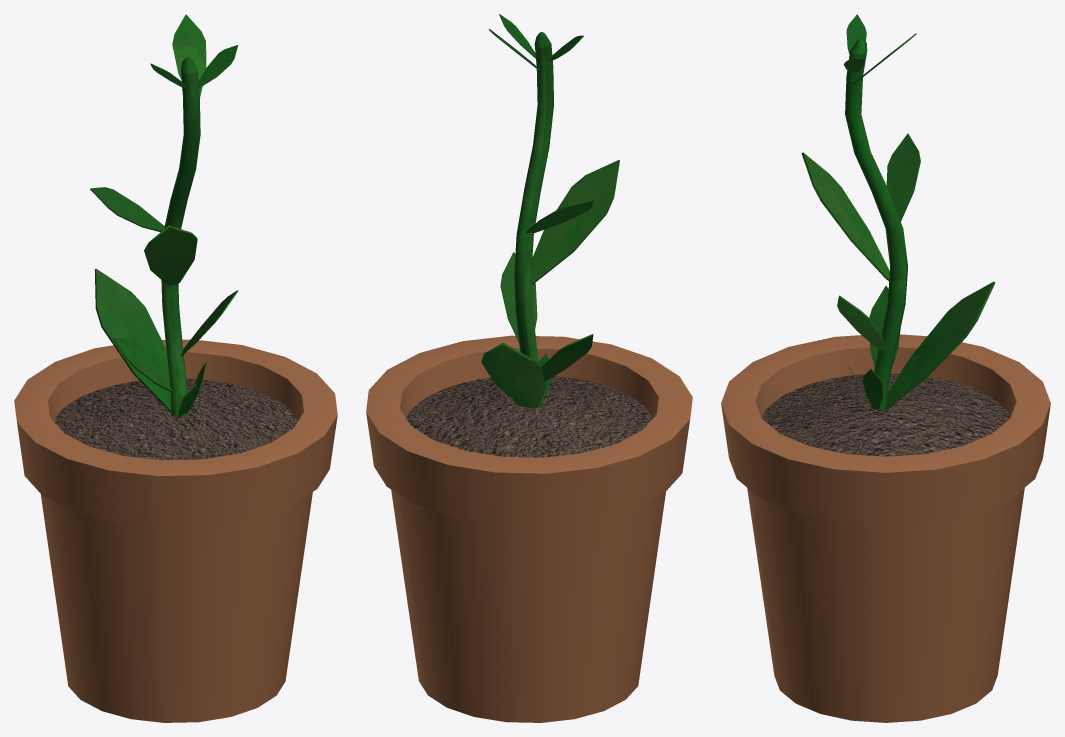
File: Plant 01.fbx
3 views of the same model, side by side, from view 1: azimuth 30°, elevation 25°; view 2: azimuth 150°, elevation 25°; view 3: azimuth 270°, elevation 25° (orthographic).
Parts seen in each view (by area): view 1: Pot1, Plant1, pDisc3; view 2: Pot1, Plant1, pDisc3; view 3: Pot1, Plant1, pDisc3.
Part boxes in pixels (box(x1,y1,x2,y2)): Pot1: box(14, 339, 337, 722); Plant1: box(90, 14, 238, 417); pDisc3: box(54, 378, 298, 460); Pot1: box(366, 335, 692, 722); Plant1: box(481, 14, 619, 408); pDisc3: box(405, 376, 652, 457); Pot1: box(721, 334, 1050, 722); Plant1: box(801, 14, 995, 409); pDisc3: box(761, 373, 1010, 456).
Bounding box in the file's own units: 5.28 × 11.57 × 5.28.
3 materials, 2 textured.
